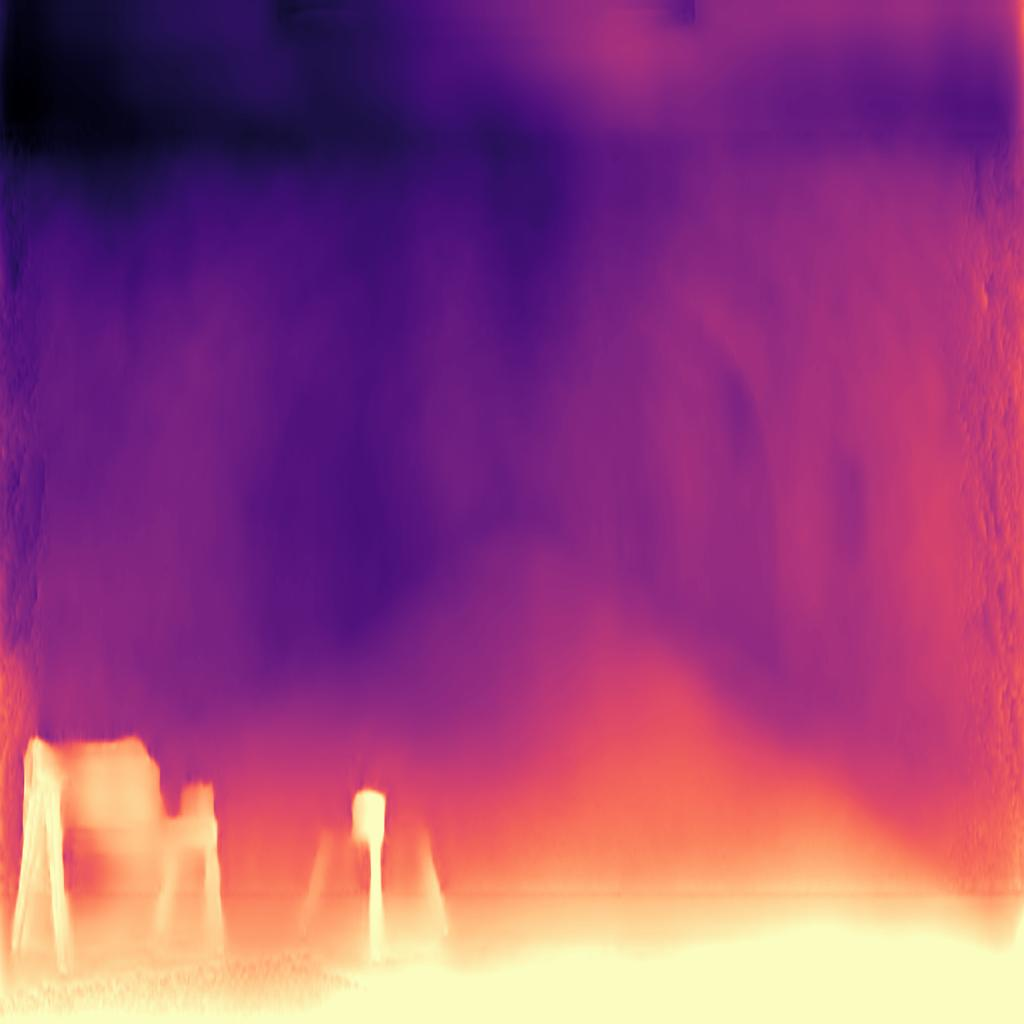painting: (1, 129, 1024, 890)
